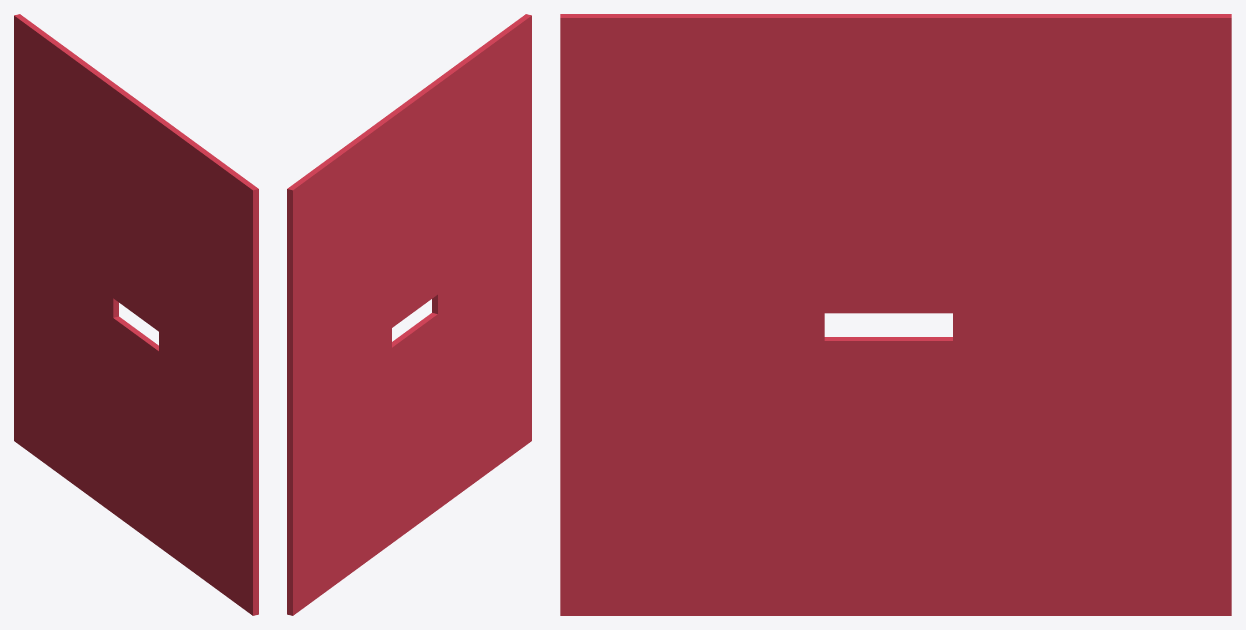
The model's file is stena.glb.
3 views of the same model, side by side, from view 1: azimuth 30°, elevation 25°; view 2: azimuth 150°, elevation 25°; view 3: azimuth 270°, elevation 25° (orthographic). The views are drawn at different scales.
Visible parts, largest first — view 1: stena; view 2: stena; view 3: stena.
Boxes of the visible parts, bbox=[...] form: stena: bbox=[14, 14, 258, 615]; stena: bbox=[287, 14, 531, 615]; stena: bbox=[560, 14, 1231, 615].
Size of the model in its own units: 0.2101 by 14.43 by 14.69.
